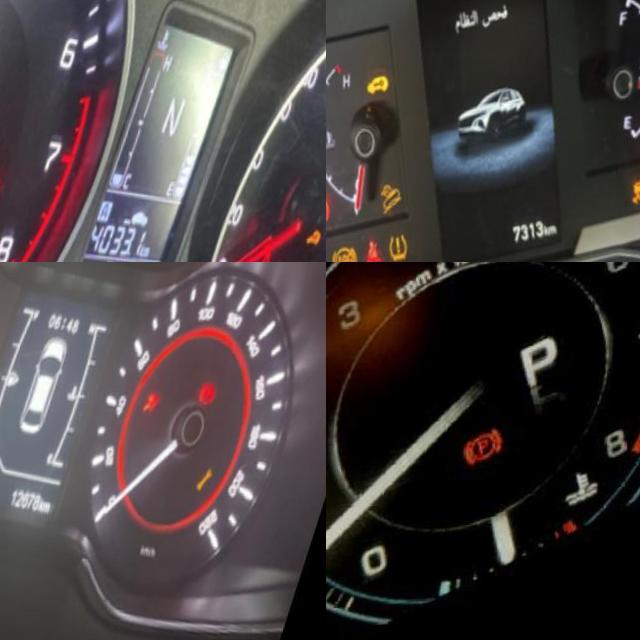Doors: (264, 246, 285, 262)
Engine cooling system: (570, 468, 628, 522)
security: (371, 72, 401, 98), (313, 225, 326, 253)
